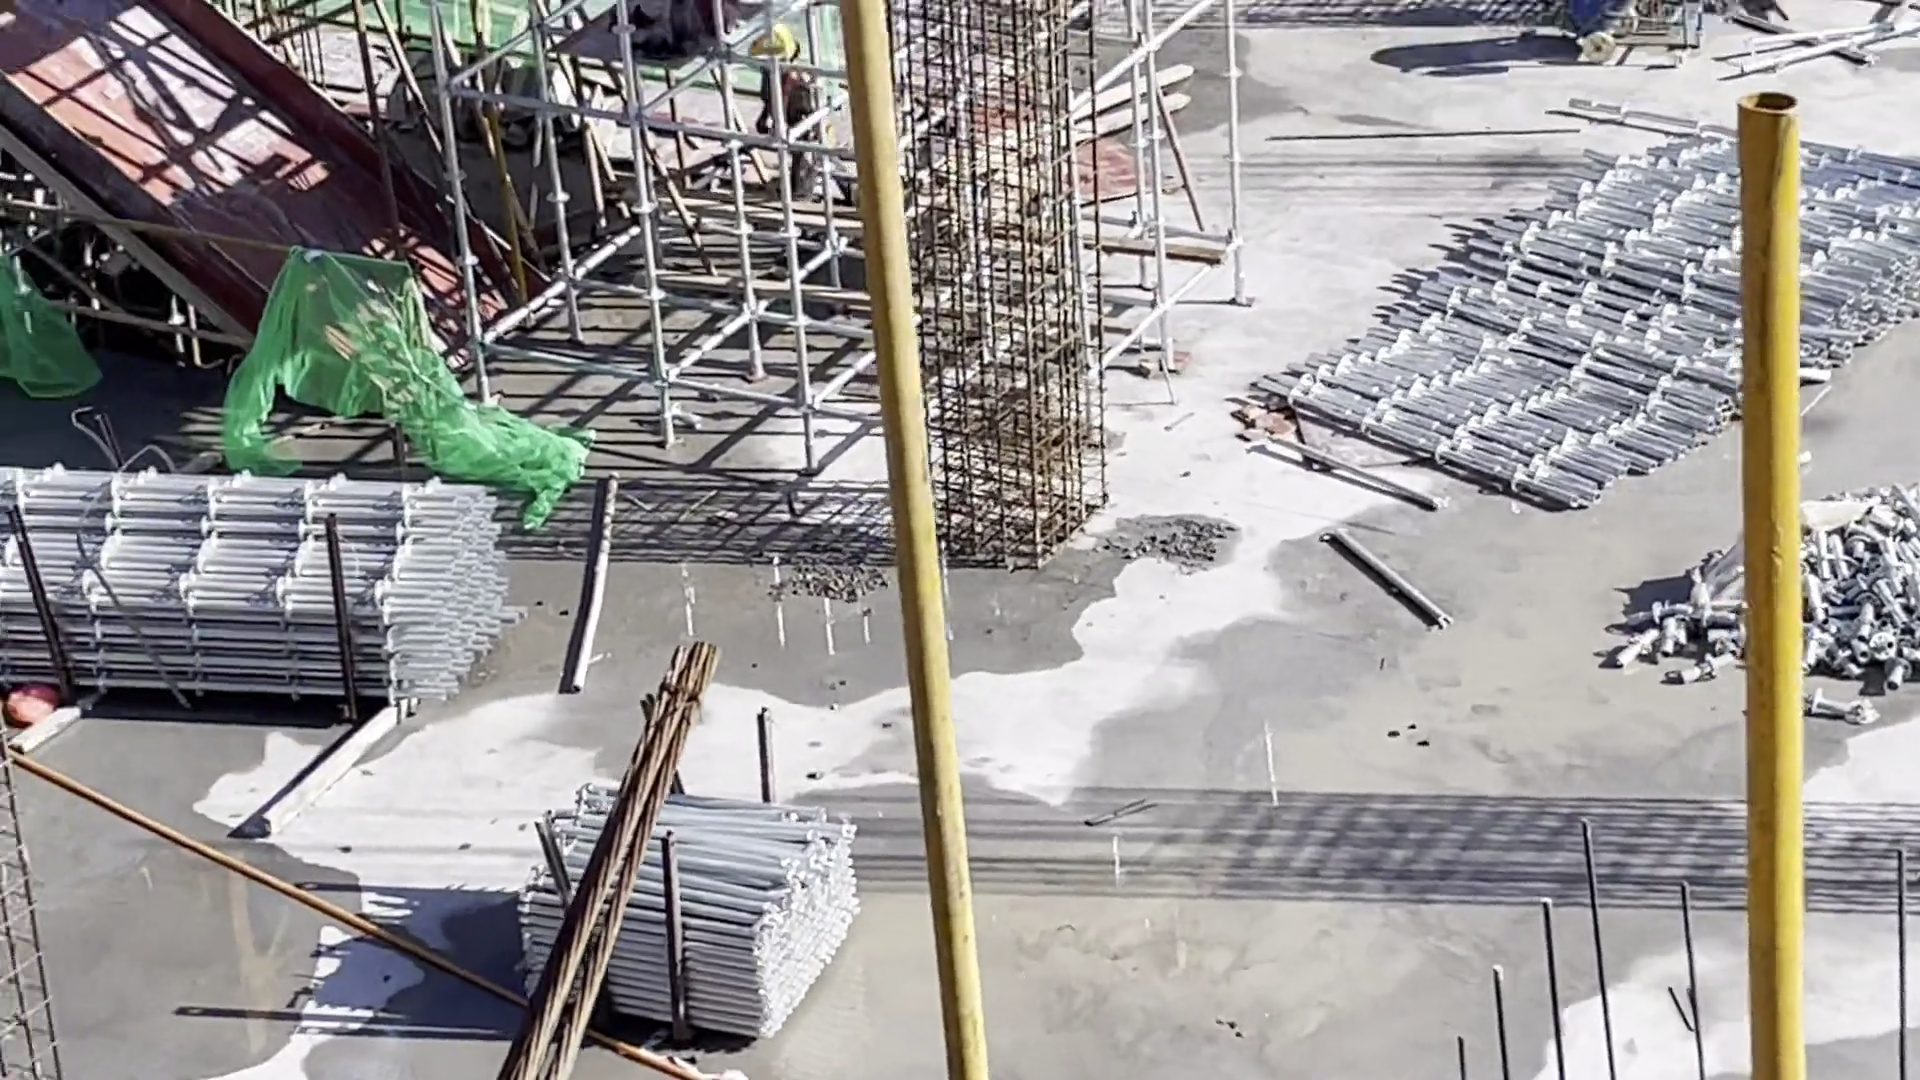helmet: (755, 25, 795, 61)
person: (747, 35, 823, 205)
scaffold: (1250, 123, 1920, 515), (2, 452, 525, 724), (524, 779, 861, 1039)
